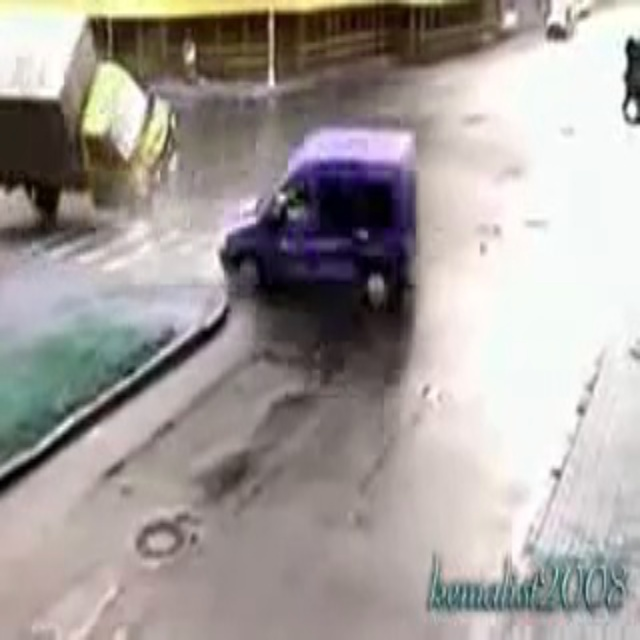acc: (1, 30, 318, 305)
